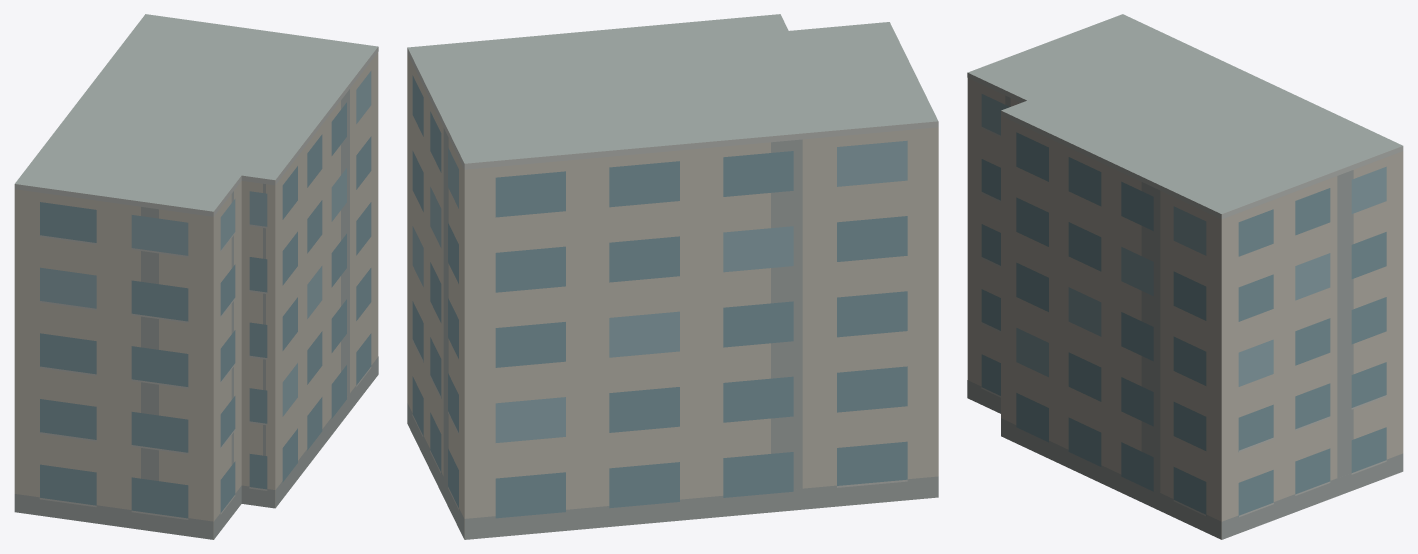
The model's file is survey-upis-32789669.glb.
The picture shows the model from 3 angles, left to right: view 1: azimuth 30°, elevation 25°; view 2: azimuth 150°, elevation 25°; view 3: azimuth 270°, elevation 25°; orthographic projection. The views are drawn at different scales.
Parts seen in each view (by area): view 1: survey-upis-32789669.tmp; view 2: survey-upis-32789669.tmp; view 3: survey-upis-32789669.tmp.
Boxes of the visible parts, x1,y1,x2,y2 form: survey-upis-32789669.tmp: [14, 14, 378, 539]; survey-upis-32789669.tmp: [407, 14, 938, 539]; survey-upis-32789669.tmp: [967, 14, 1403, 539].
Size of the model in its own units: 20.19 by 15.3 by 18.57.
